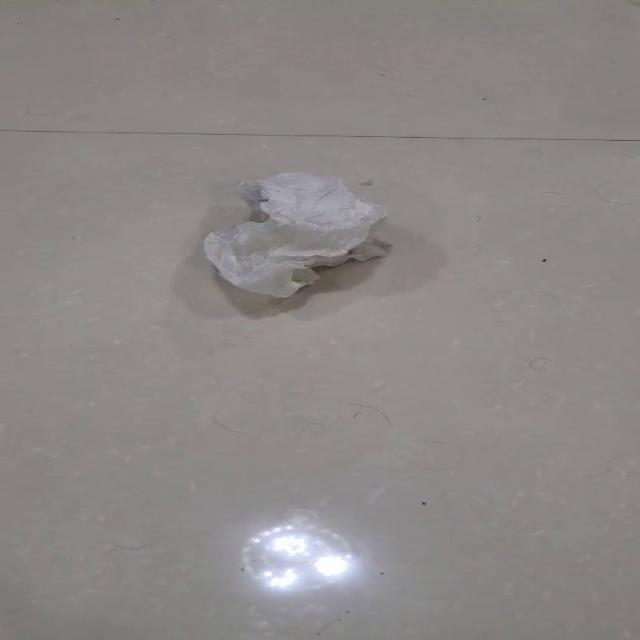plastic: (201, 170, 388, 298)
